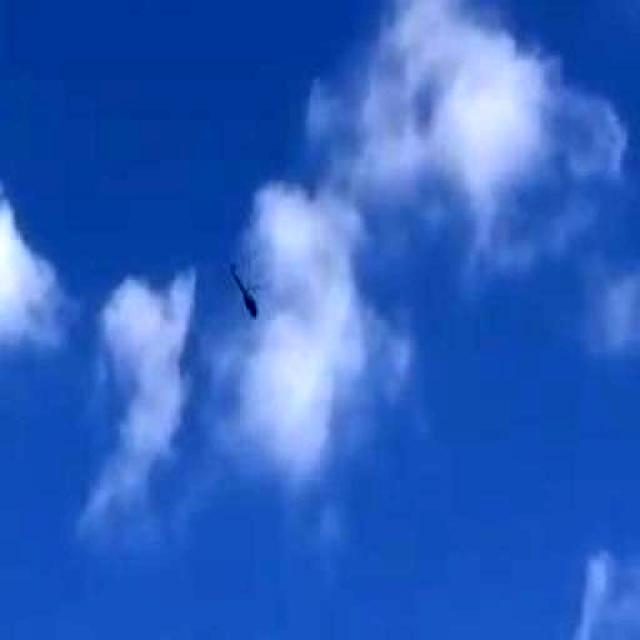drone: (206, 245, 282, 341)
